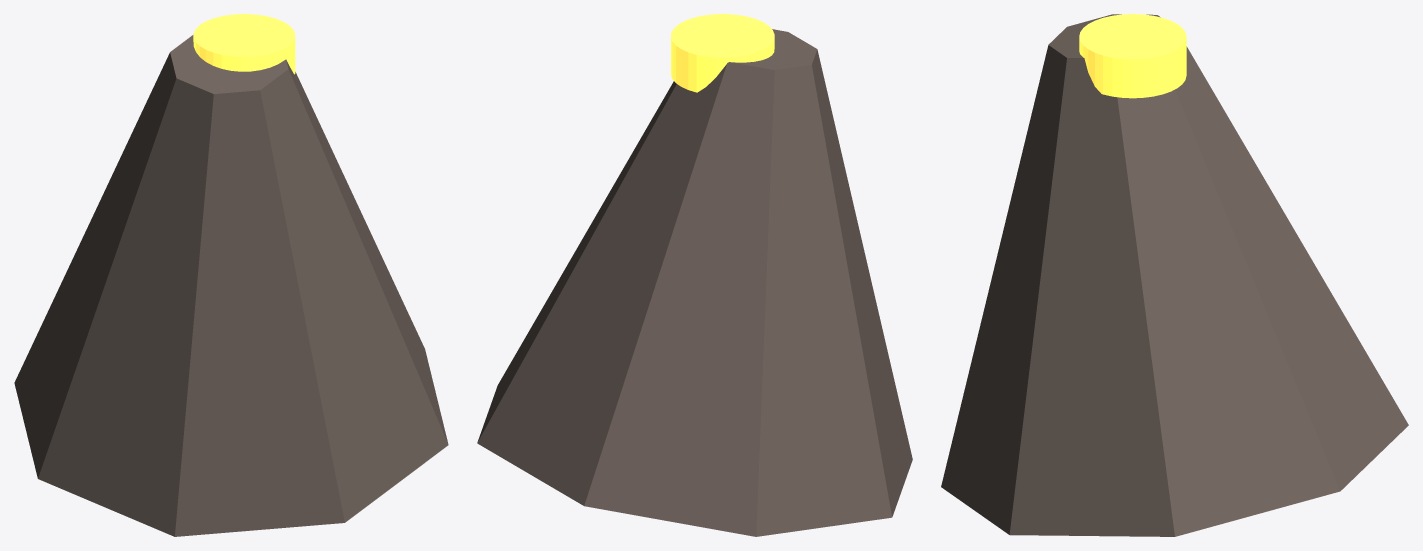
File: prop_volcanic_vent_horn.glb
The picture shows the model from 3 angles, left to right: view 1: azimuth 30°, elevation 25°; view 2: azimuth 150°, elevation 25°; view 3: azimuth 270°, elevation 25°; orthographic projection. The views are drawn at different scales.
Parts seen in each view (by area): view 1: Vent_Horn, Vent_Lava_Mouth; view 2: Vent_Horn, Vent_Lava_Mouth; view 3: Vent_Horn, Vent_Lava_Mouth.
Boxes of the visible parts, x1,y1,x2,y2 form: Vent_Horn: (14,35,448,536); Vent_Lava_Mouth: (193,14,295,74); Vent_Horn: (477,29,912,536); Vent_Lava_Mouth: (671,14,774,92); Vent_Horn: (941,14,1408,536); Vent_Lava_Mouth: (1079,14,1186,98).
Size of the model in its own units: 4.38 by 4.62 by 4.36.
